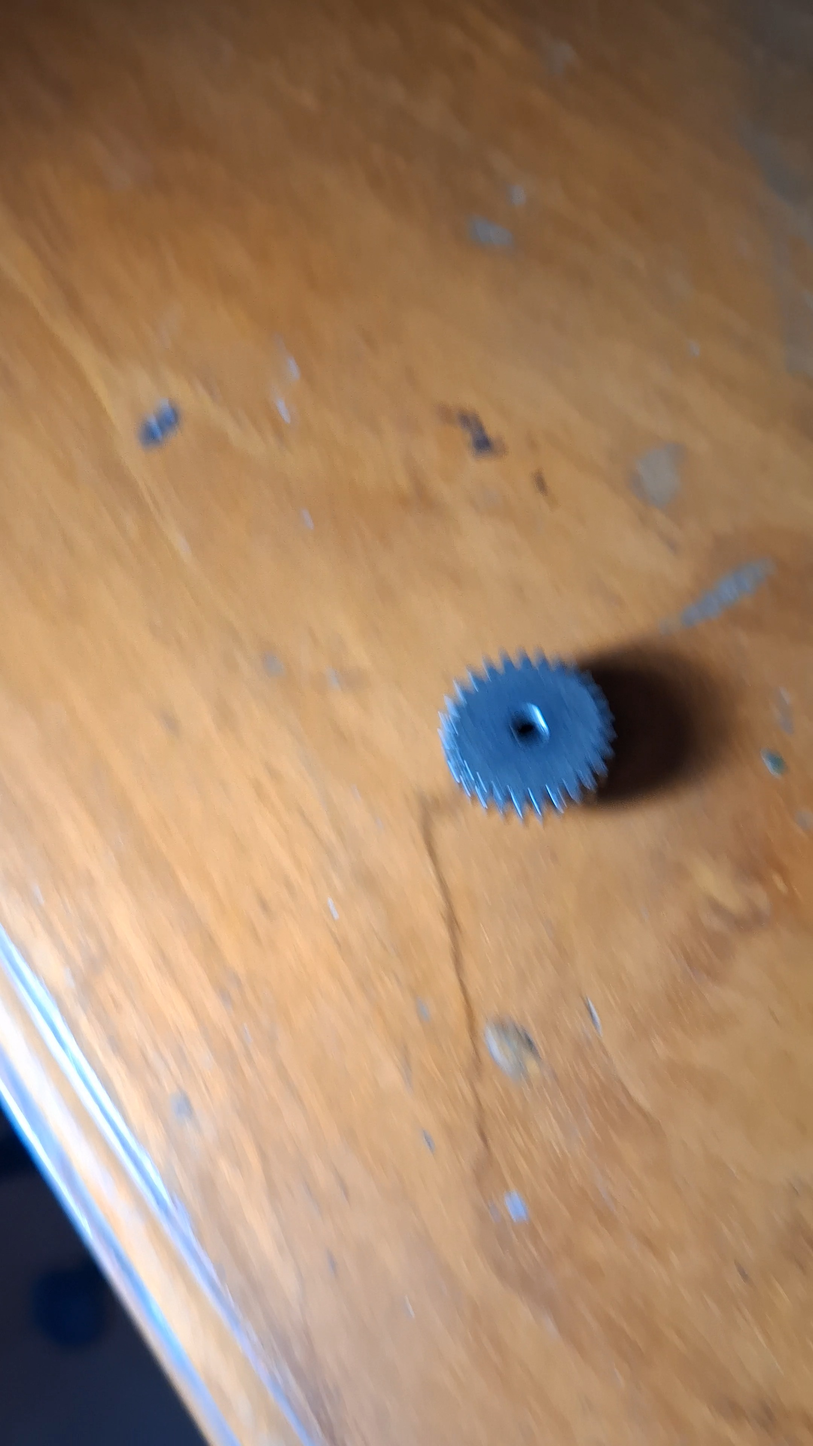spur gear: (440, 655, 614, 816)
